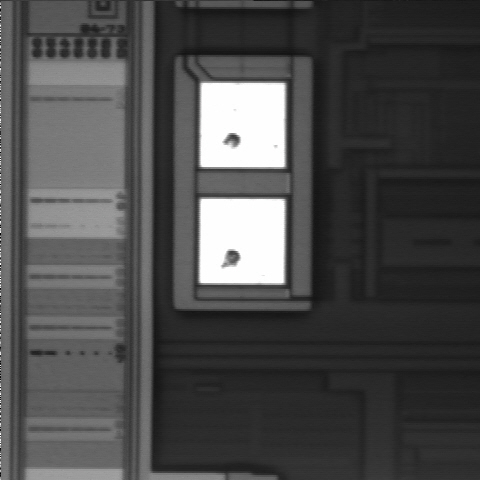pad: (200, 83, 285, 167), (200, 199, 285, 283)
